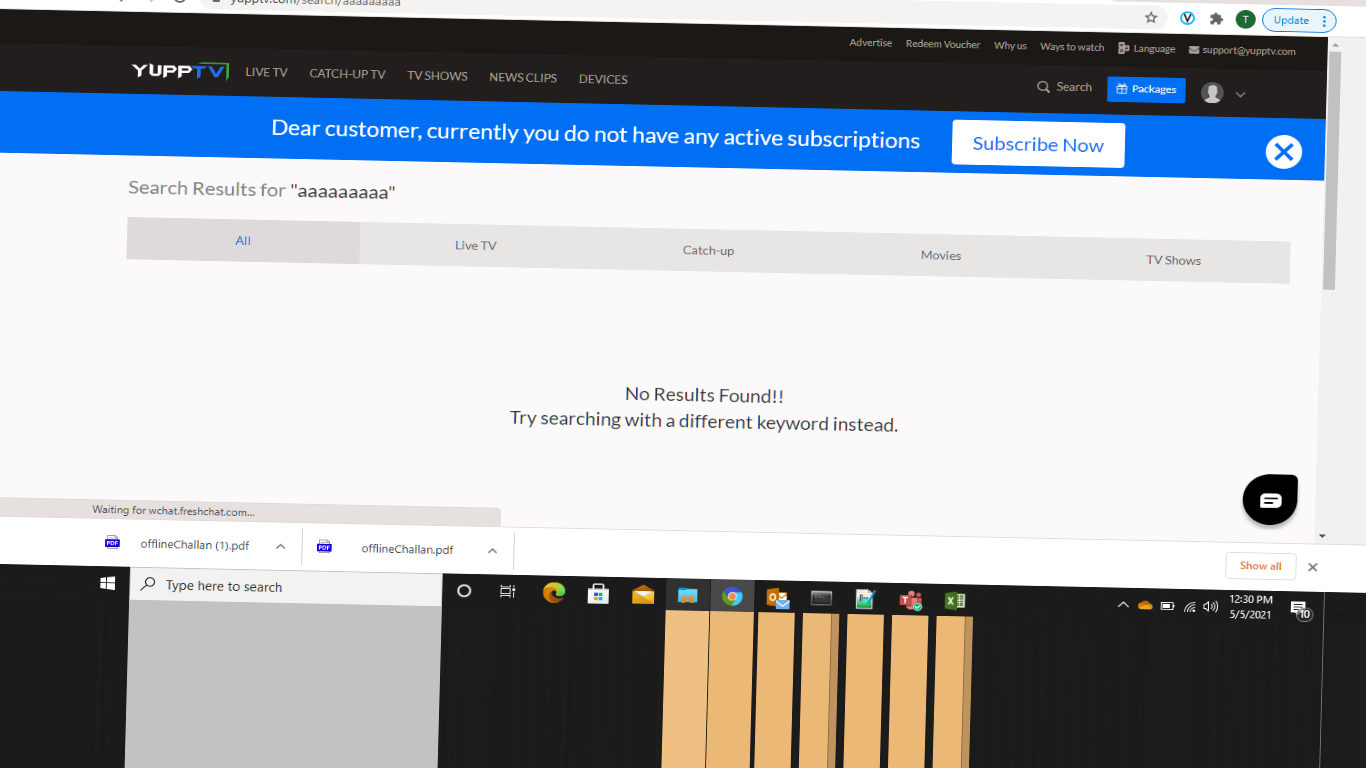noresultsfound: (494, 355, 920, 437)
profileicon: (1197, 64, 1241, 119)
searchtextbox: (1033, 67, 1096, 104)
